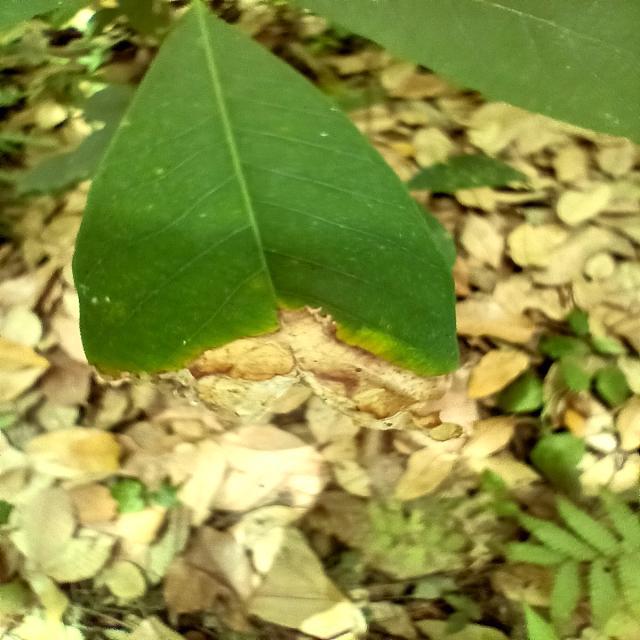Colletotrichum: (355, 368, 362, 372)
Leaf-Blight: (153, 307, 464, 441)
